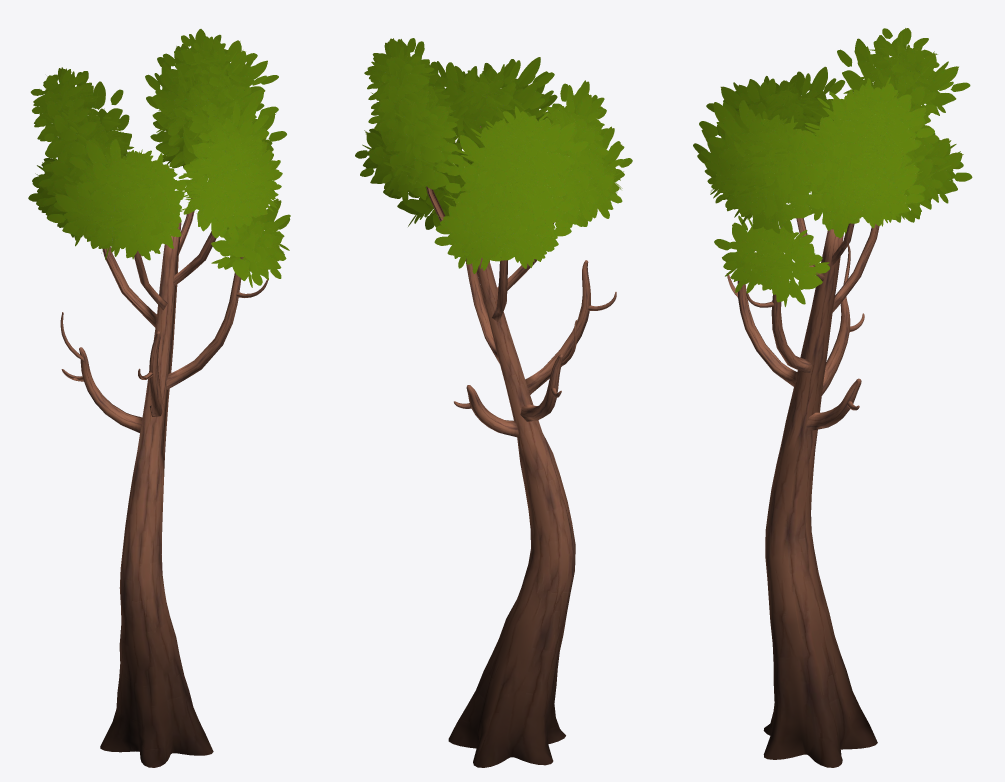
Rendered from tree3.glb.
3 renders of one model, left to right at view 1: azimuth 30°, elevation 25°; view 2: azimuth 150°, elevation 25°; view 3: azimuth 270°, elevation 25°, orthographic. The views are drawn at different scales.
Visible parts, largest first — view 1: CommonTree_4; view 2: CommonTree_4; view 3: CommonTree_4.
Boxes of the visible parts, left/top/right/bottom form: CommonTree_4: left=28, top=29, right=290, bottom=767; CommonTree_4: left=355, top=38, right=632, bottom=767; CommonTree_4: left=693, top=28, right=972, bottom=767.
Bounding box in the file's own units: 3.83 × 9.44 × 3.76.
Materials: 2 (2 with a texture image).
